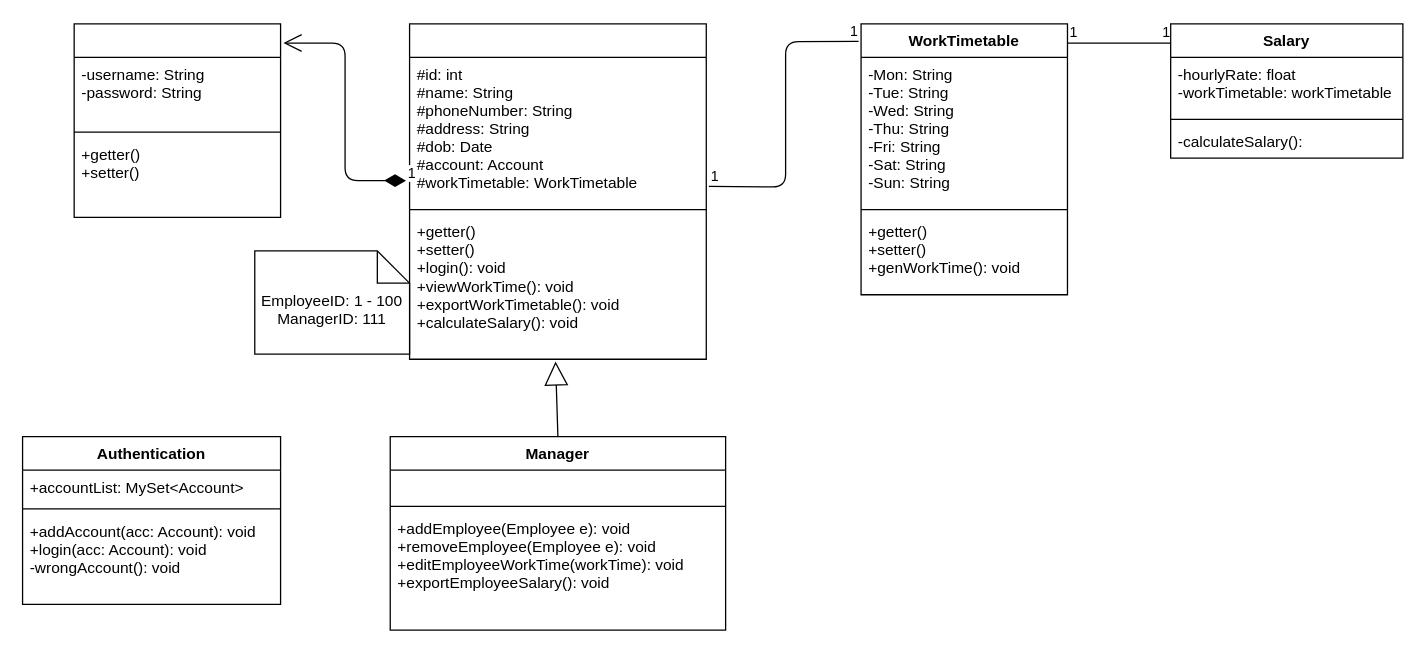
The diagram is 1425 pixels wide and 657 high, and some of its shapes have lost their labels. The shapes that lost their labels are listed below. From the top down, each one's box as (x1, y1, x2, y2) in pixels, then its label:
(73, 23, 281, 217): Account
(408, 23, 706, 359): Employee
